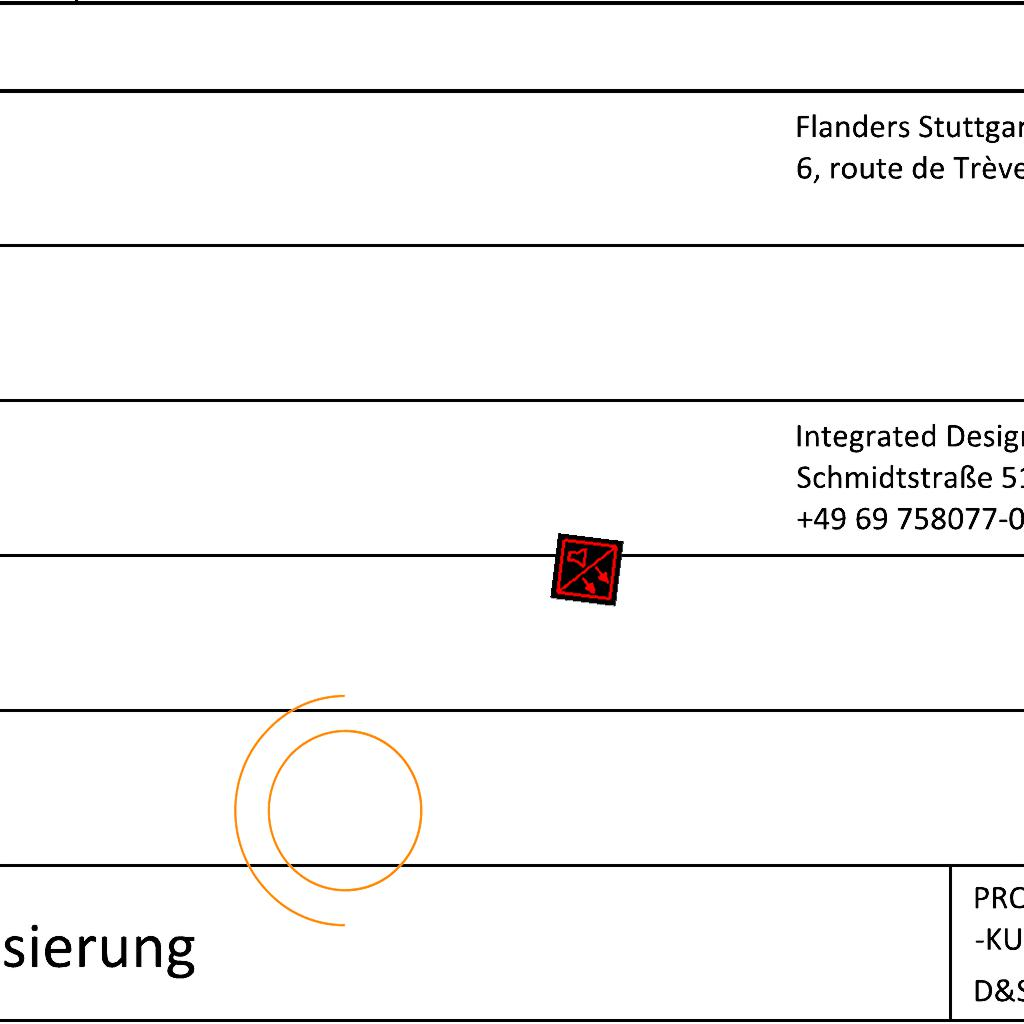OKW_Multisensormelder_(Kombination_optischer_Rauch-Kahlenmonoxid_Waerme-Melder): (550, 533, 624, 607)
Scheinwerfer_fuer_Alarmbeleuchtung: (223, 685, 448, 949)
